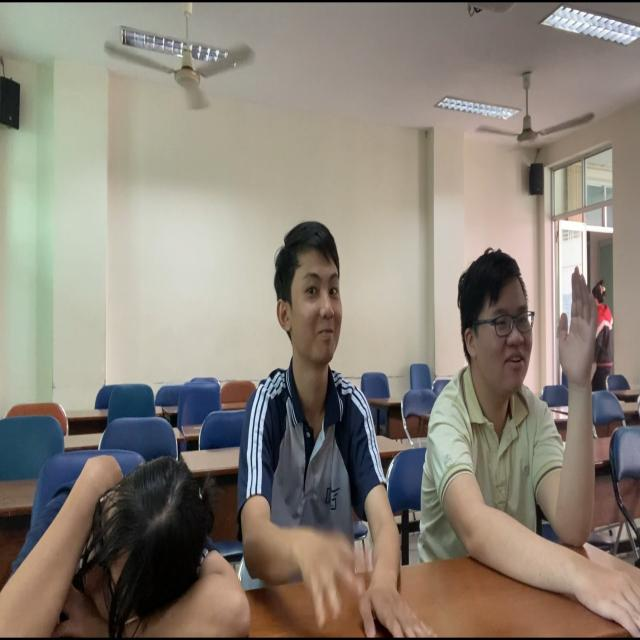raise_hand: (431, 248, 599, 603)
sleep: (4, 458, 226, 640)
